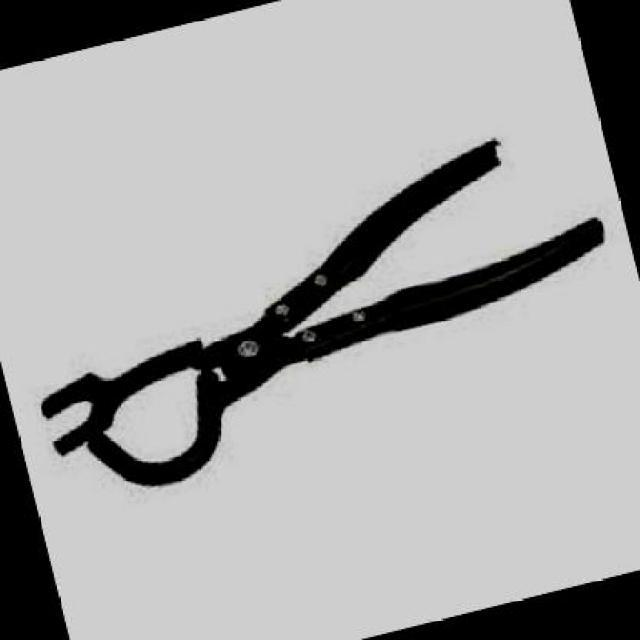pliers: (0, 114, 638, 540)
